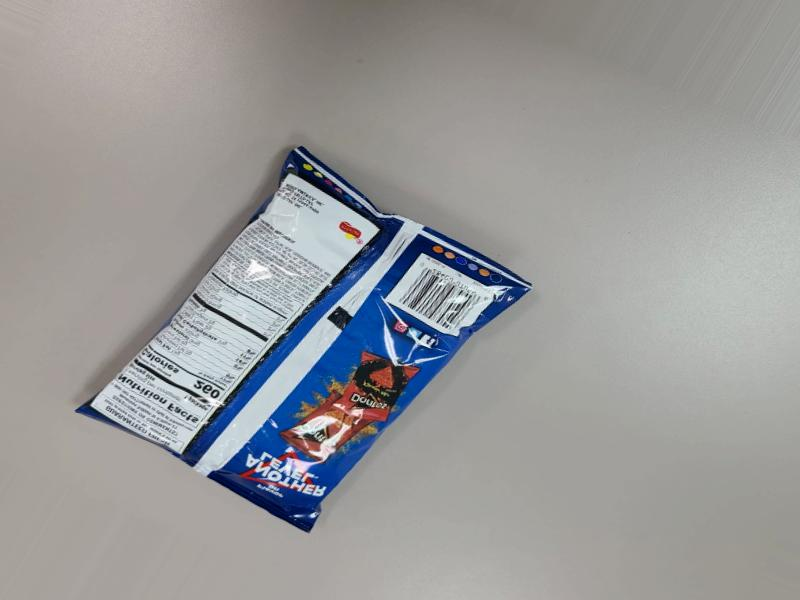doritos: (206, 244, 597, 559)
